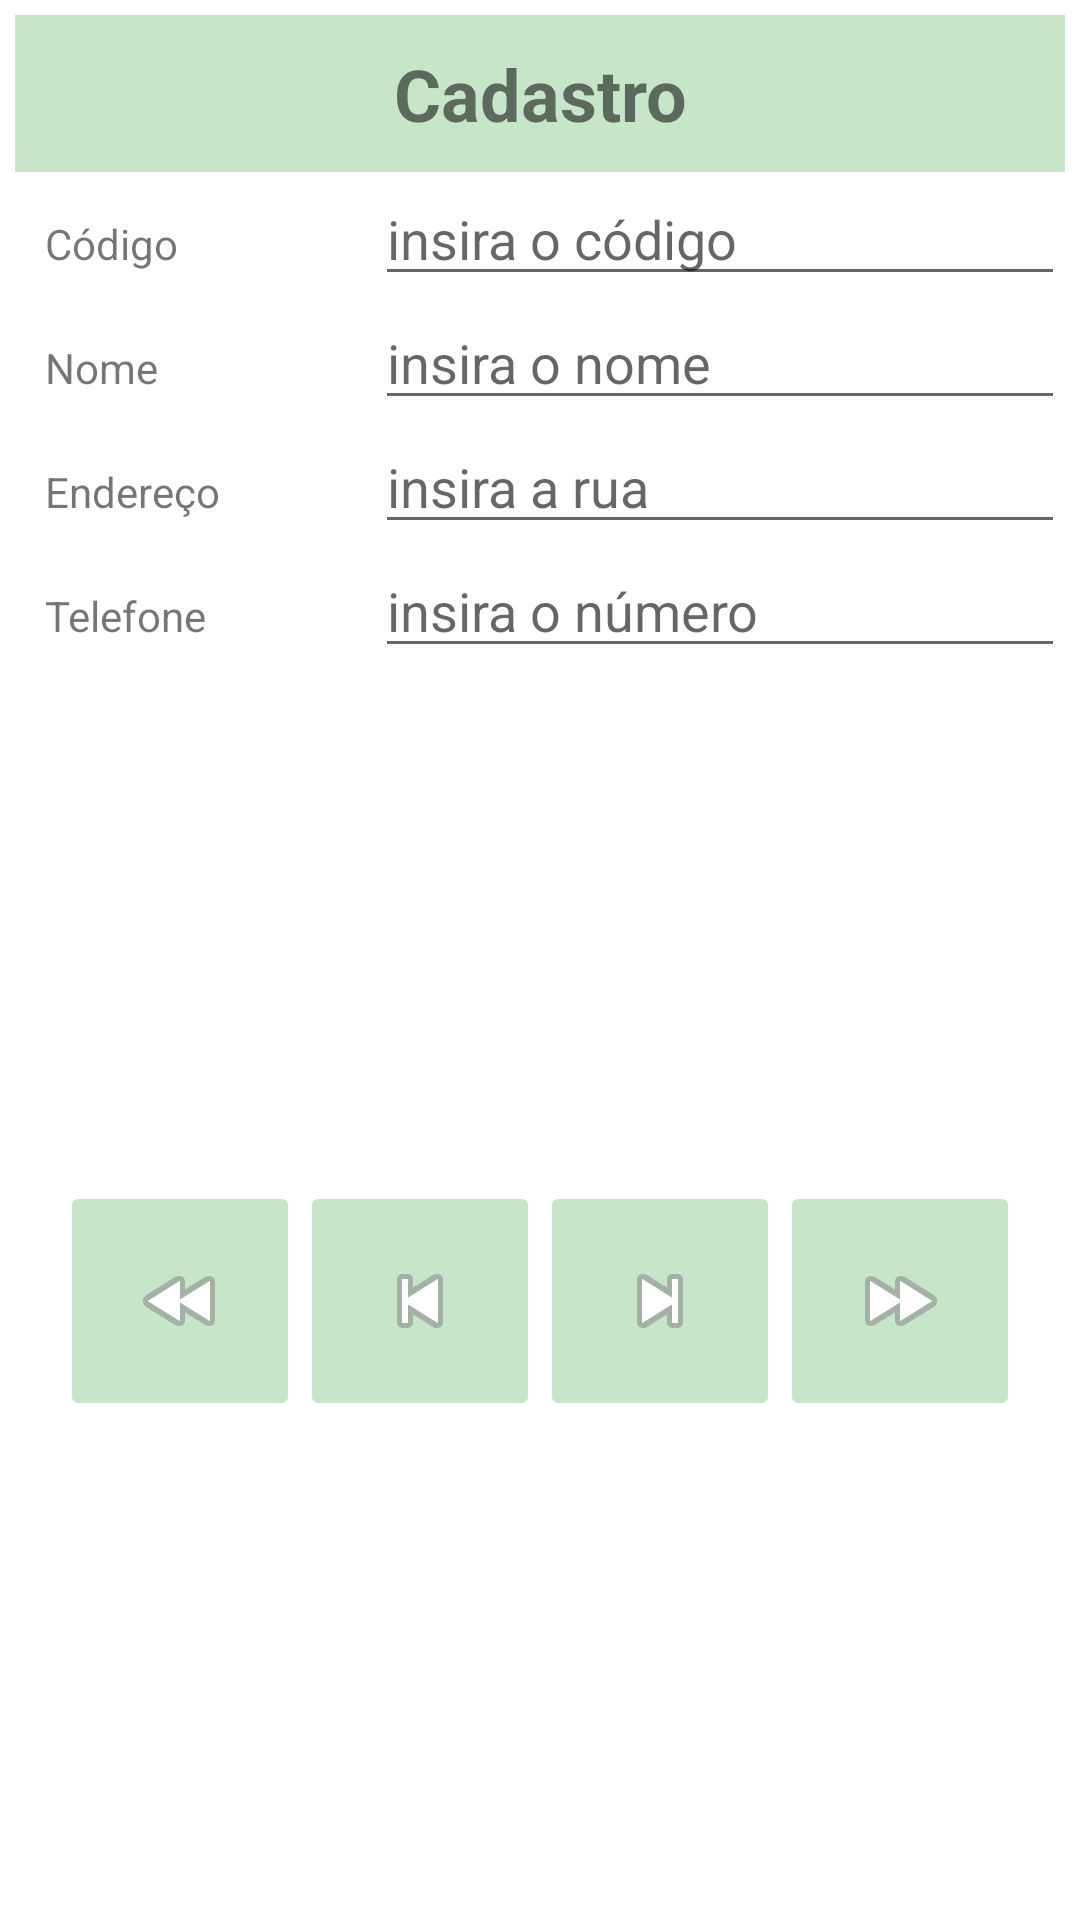

Point at icon controls on the screen. Image size 1080w x 1920h, points as (x,y).
Botão Anterior: (420,1301)
Botão Primeiro: (180,1301)
Botão Próximo: (660,1301)
Botão Último: (900,1301)
